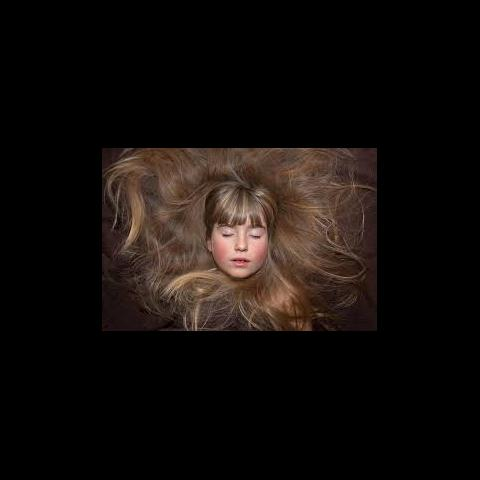closed: (209, 222, 268, 245)
